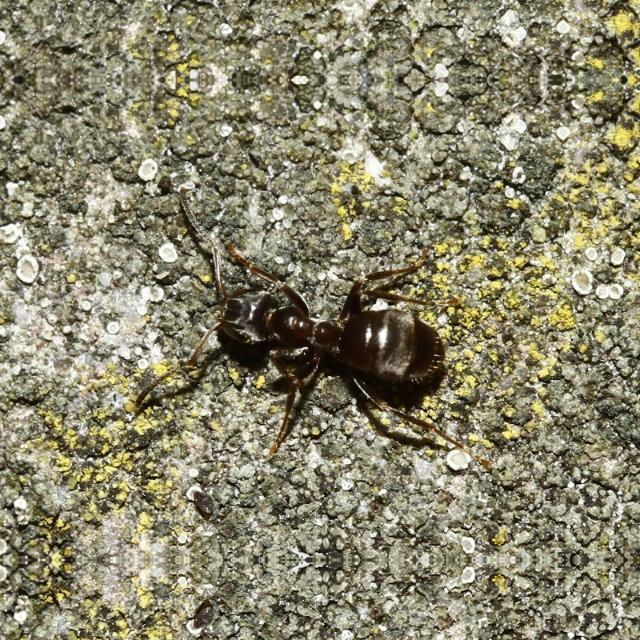Lasius: (189, 228, 456, 426)
